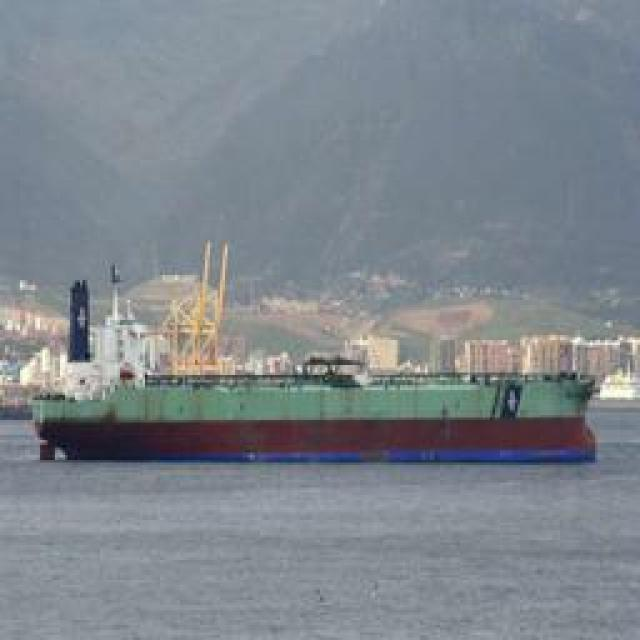Ship: (18, 387, 596, 460)
